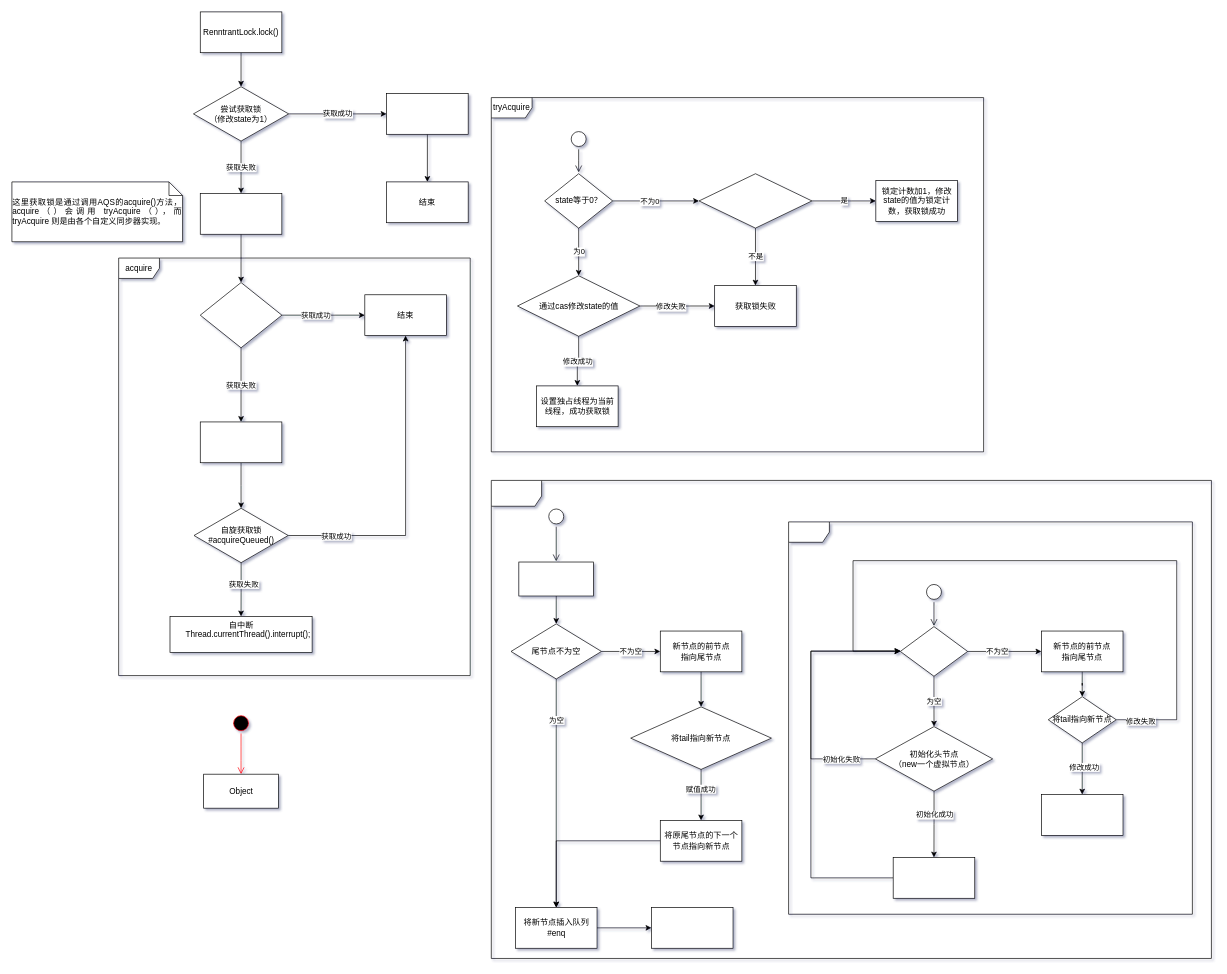
The diagram is 1227 pixels wide and 974 high, and some of its shapes have lost their labels. The shapes that lost their labels are listed below. From the top down, each one's box as (x1, y1, x2, y2) in pixels, then its label:
(386, 93, 468, 134): 设置独占线程为当前线程
(200, 193, 282, 234): 再次尝试获取锁
(698, 173, 812, 228): 独占线程为当前线程？
(200, 282, 282, 348): 获取锁#tryAcquire()
(200, 421, 282, 463): 添加新节点 #addWaiter
(518, 561, 594, 596): 根据当前线程 创建一个新节点
(900, 626, 968, 676): 尾节点为空
(491, 480, 1211, 958): addWaiter
(788, 521, 1192, 914): enq
(1041, 794, 1123, 835): 原来尾节点的下一个节点指向新节点，返回原来尾节点
(893, 857, 975, 898): 头节点和尾节点指向虚拟节点
(651, 907, 733, 948): 返回新节点
